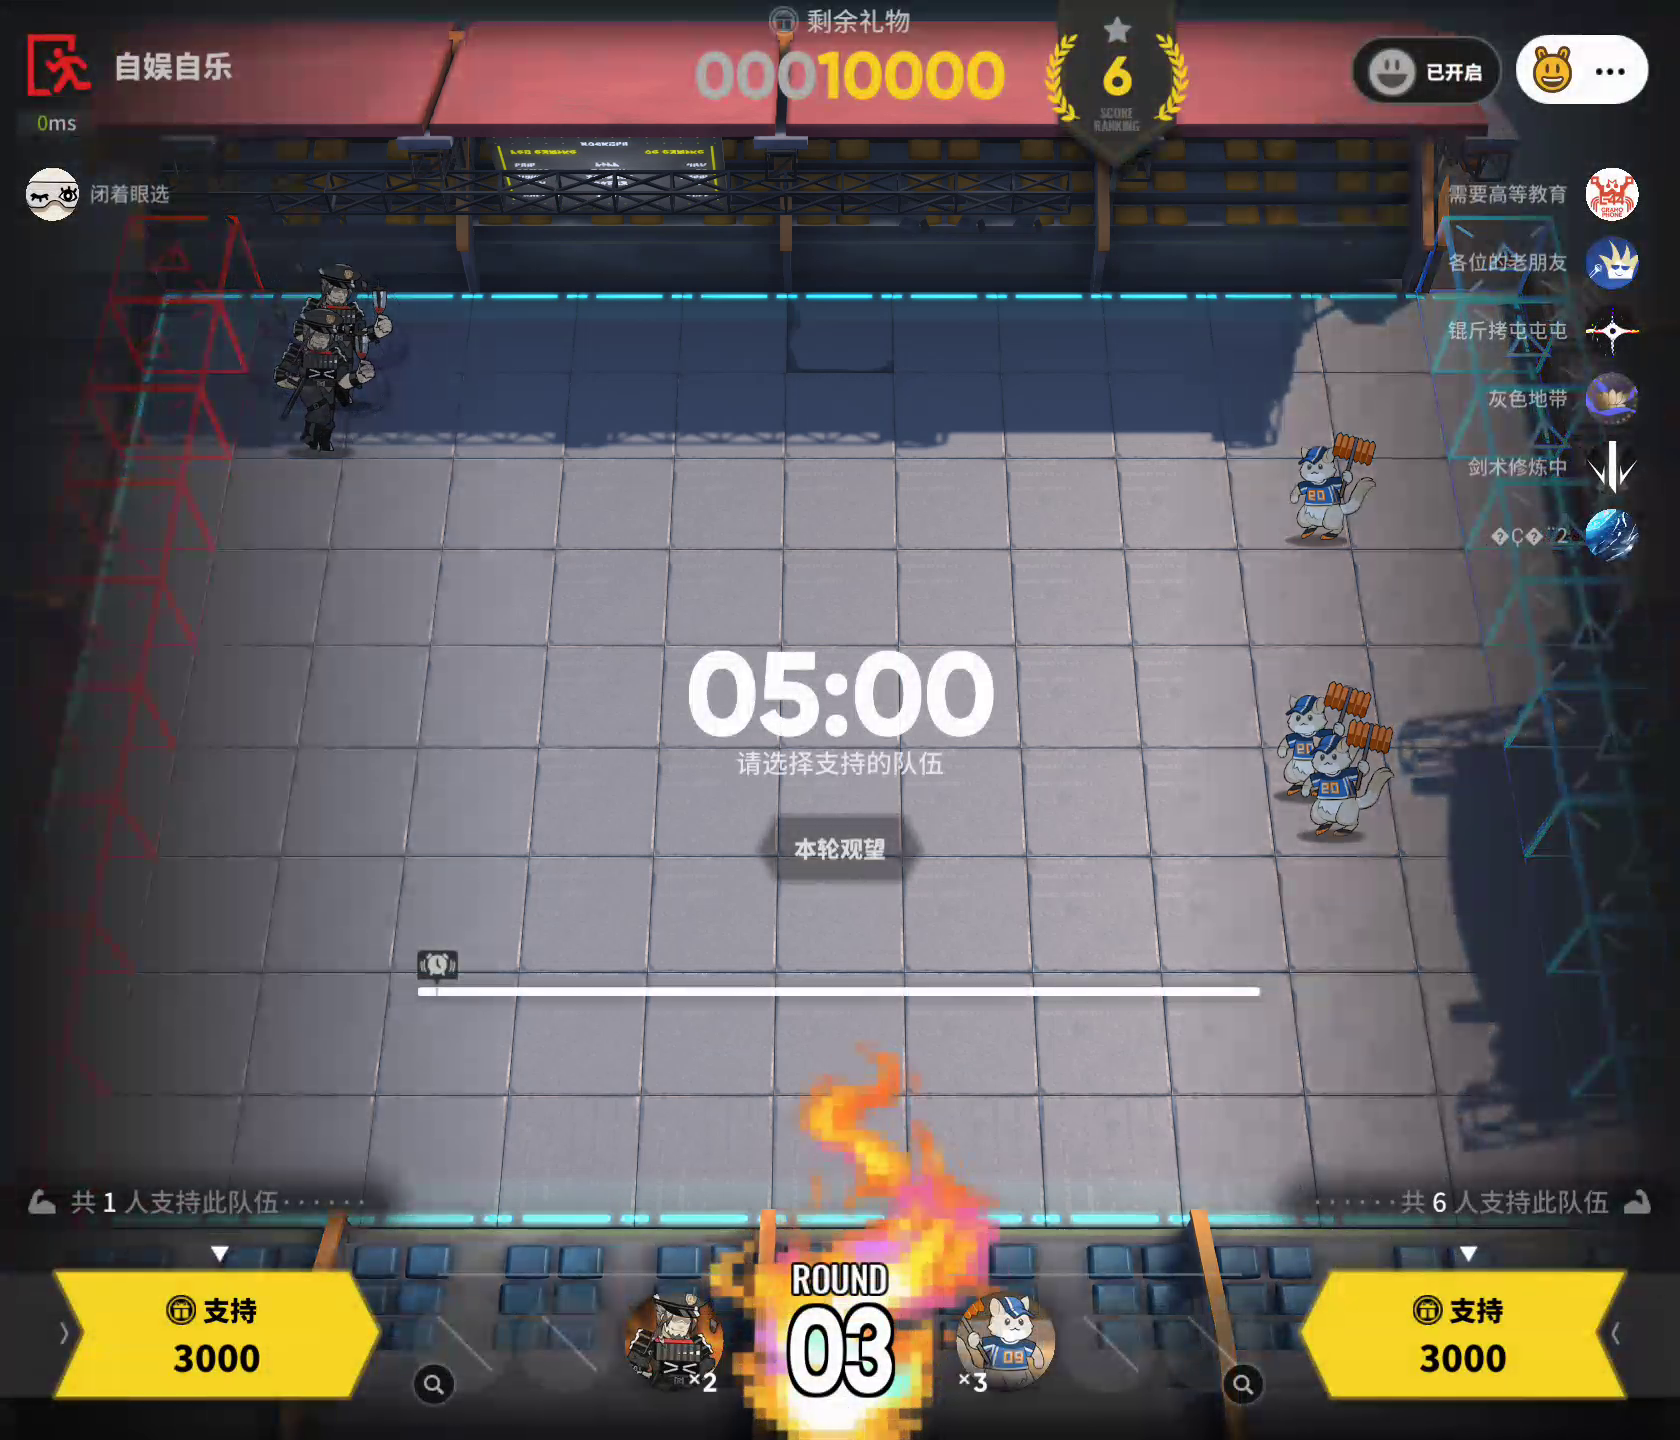大力锤球手: (1261, 681, 1380, 796), (1286, 426, 1391, 547), (954, 1286, 1066, 1391), (1303, 719, 1397, 841)
杰斯顿·威廉姆斯: (259, 294, 396, 476), (303, 251, 399, 403), (619, 1283, 734, 1396)
